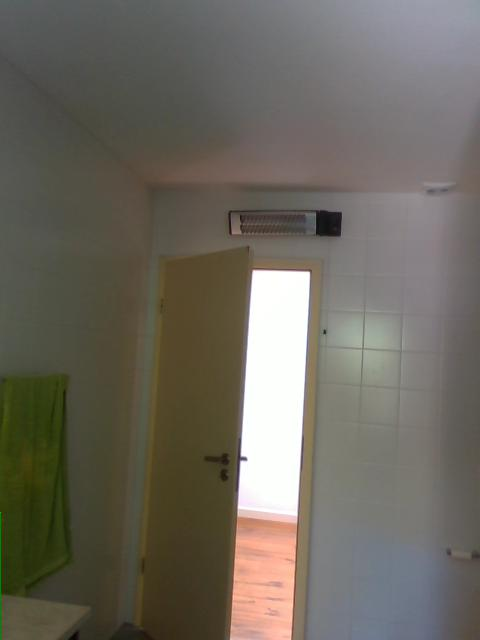semi_door: (132, 242, 323, 639)
